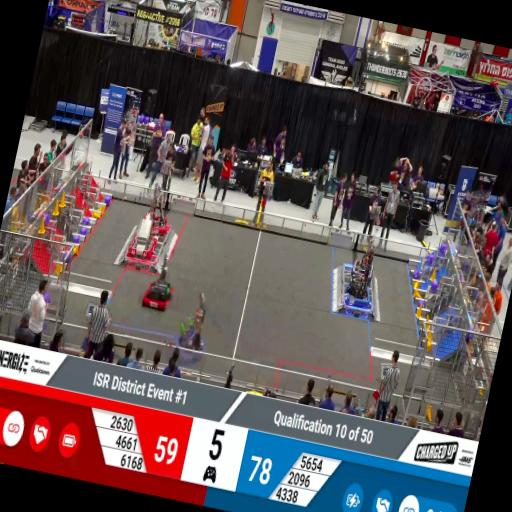robot: (166, 284, 218, 366), (140, 251, 183, 314), (138, 180, 176, 240), (349, 238, 380, 284), (126, 220, 160, 260), (339, 272, 375, 309)
